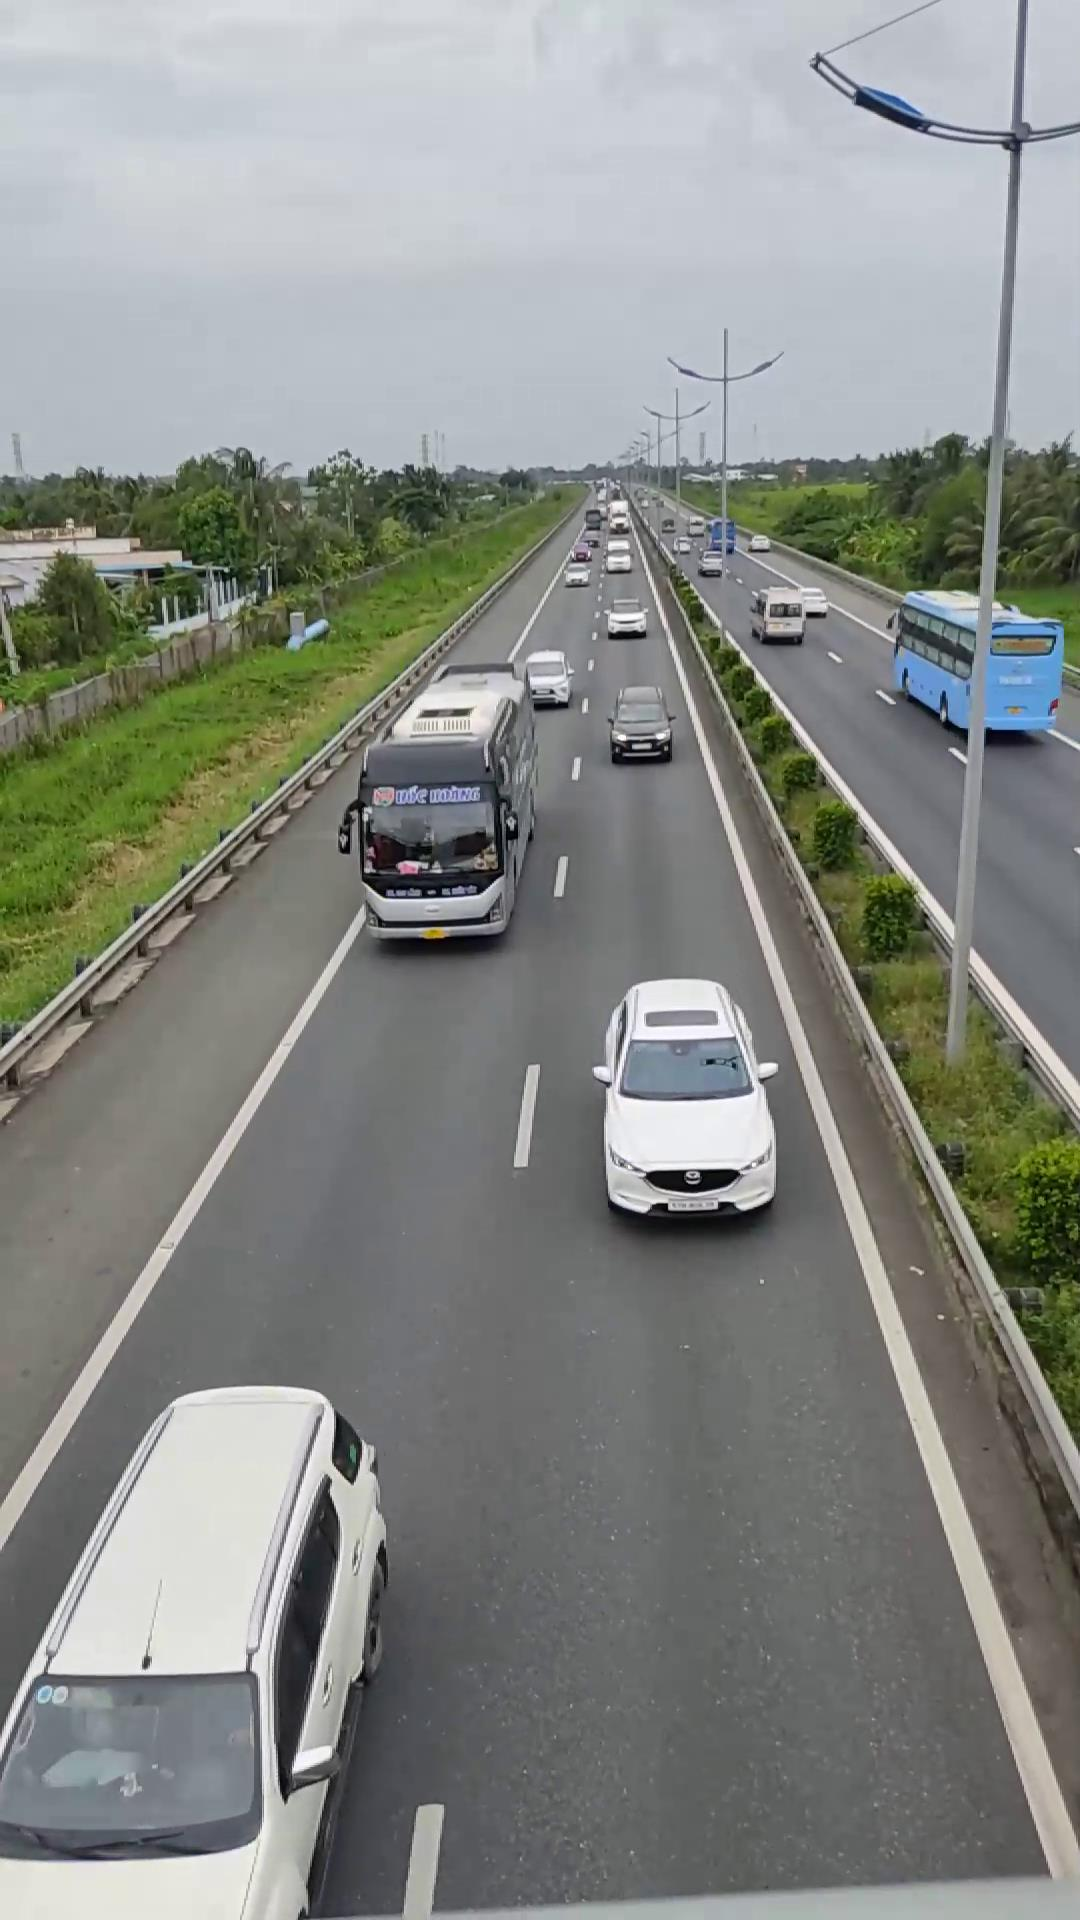bus: (345, 663, 539, 943)
car: (0, 1383, 394, 1919), (592, 975, 783, 1222), (605, 686, 676, 762)
